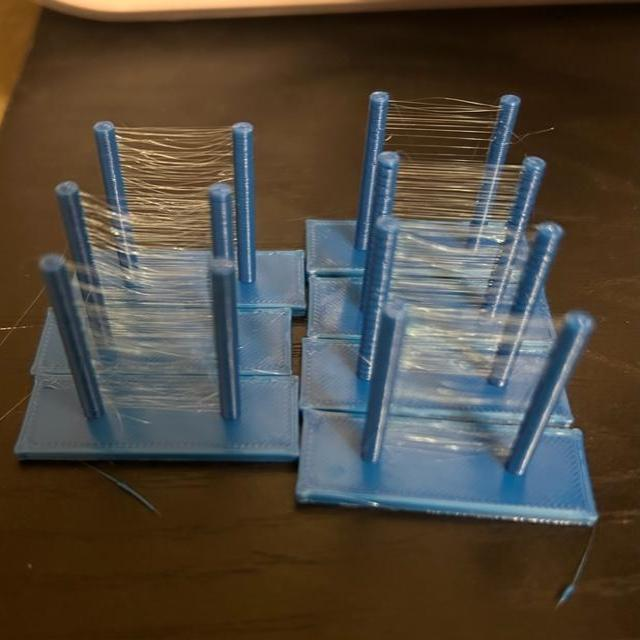Stringing: (86, 210, 208, 258), (83, 289, 206, 334), (404, 226, 511, 273), (129, 133, 218, 188), (397, 104, 485, 148), (406, 166, 485, 215)
